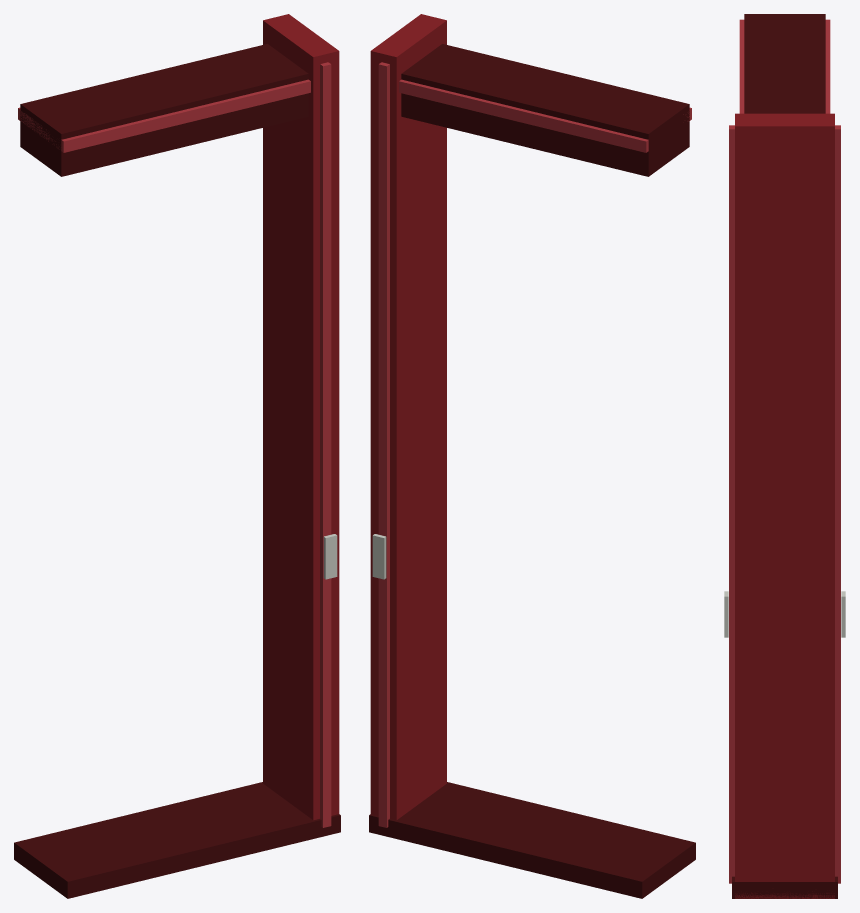
Rendered from CMU3DPairedSecuritySolidOpen.glb.
3 views of the same model, side by side, from view 1: azimuth 30°, elevation 25°; view 2: azimuth 150°, elevation 25°; view 3: azimuth 270°, elevation 25° (orthographic).
Visible parts, largest first — view 1: outer door jamb, continuous top track, threshold, outer jamb highlight, top track lip, outer access reader; view 2: outer door jamb, continuous top track, threshold, outer jamb highlight, top track lip, outer access reader back; view 3: outer door jamb, outer jamb highlight (×2), continuous top track, threshold, top track lip.
Boxes of the visible parts, x1=… form: outer door jamb: x1=263, y1=14, x2=339, y2=820; continuous top track: x1=20, y1=44, x2=308, y2=176; threshold: x1=14, y1=782, x2=340, y2=898; outer jamb highlight: x1=320, y1=62, x2=331, y2=827; top track lip: x1=18, y1=79, x2=310, y2=152; outer access reader: x1=323, y1=534, x2=337, y2=579; outer door jamb: x1=370, y1=14, x2=446, y2=820; continuous top track: x1=401, y1=44, x2=689, y2=176; threshold: x1=369, y1=782, x2=695, y2=898; outer jamb highlight: x1=378, y1=62, x2=389, y2=827; top track lip: x1=399, y1=79, x2=691, y2=152; outer access reader back: x1=372, y1=534, x2=386, y2=579; outer door jamb: x1=735, y1=113, x2=834, y2=898; outer jamb highlight (×2): x1=729, y1=125, x2=840, y2=883; continuous top track: x1=744, y1=14, x2=825, y2=113; threshold: x1=732, y1=876, x2=837, y2=898; top track lip: x1=739, y1=19, x2=830, y2=113.
Bounding box in the file's own units: 1 × 2.73 × 0.388.
